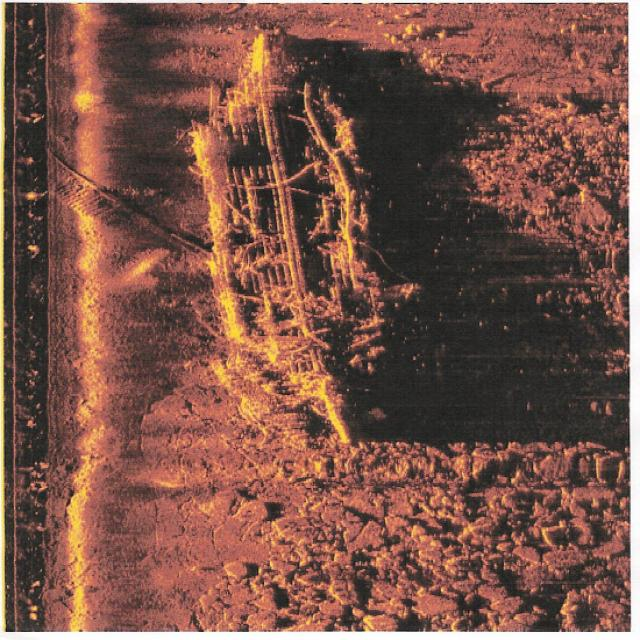ship: (193, 29, 404, 447)
